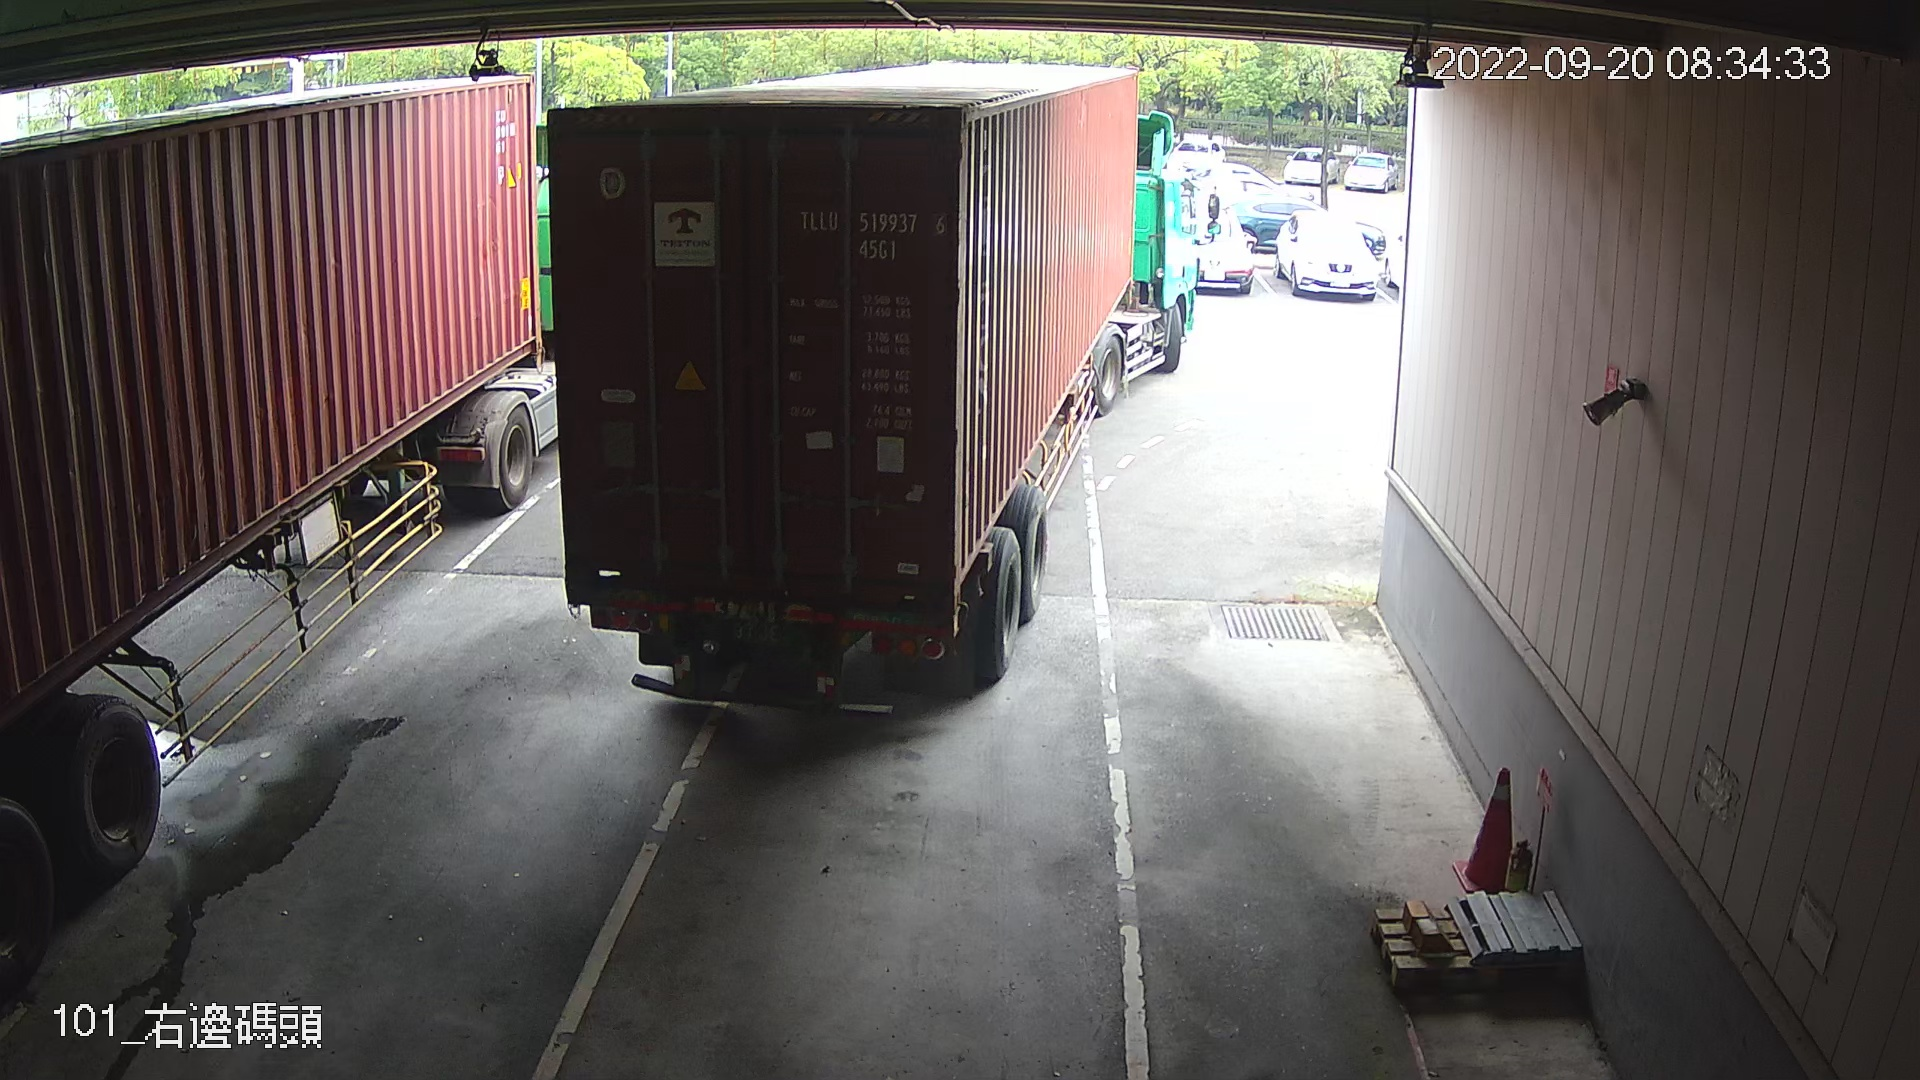container: (791, 200, 953, 269)
